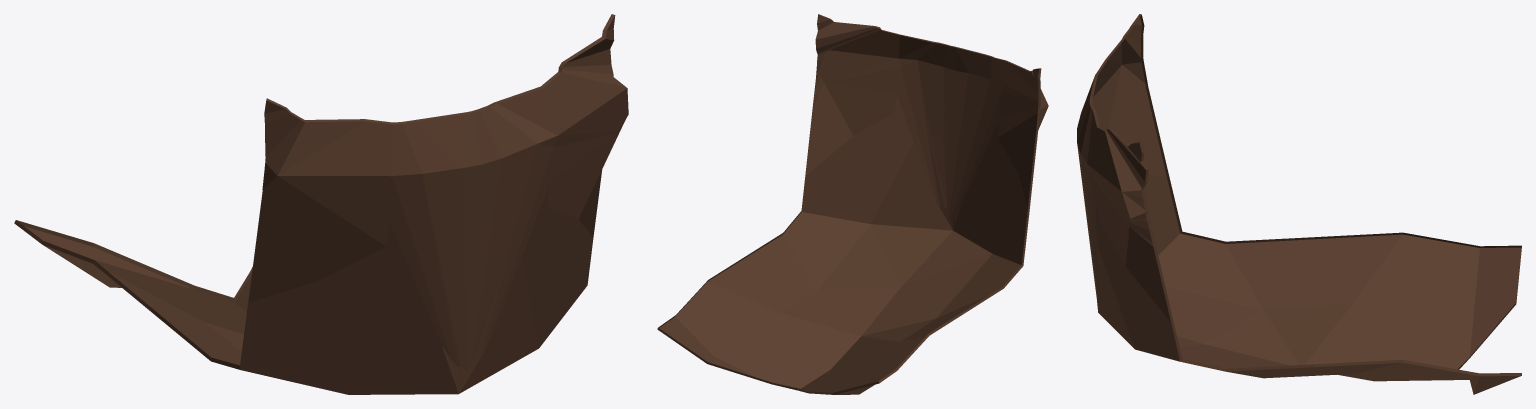
The model's file is cavanhaque_blocado.glb.
3 views of the same model, side by side, from view 1: azimuth 30°, elevation 25°; view 2: azimuth 150°, elevation 25°; view 3: azimuth 270°, elevation 25° (orthographic). The views are drawn at different scales.
Parts seen in each view (by area): view 1: R28_nariz_baixo_4mm_cavanhaque_blocado; view 2: R28_nariz_baixo_4mm_cavanhaque_blocado; view 3: R28_nariz_baixo_4mm_cavanhaque_blocado.
Part boxes in pixels (box(x1,y1,x2,y2)): R28_nariz_baixo_4mm_cavanhaque_blocado: box(14, 14, 628, 394); R28_nariz_baixo_4mm_cavanhaque_blocado: box(657, 14, 1048, 394); R28_nariz_baixo_4mm_cavanhaque_blocado: box(1077, 14, 1521, 394).
Size of the model in its own units: 0.0602 by 0.0647 by 0.086.
